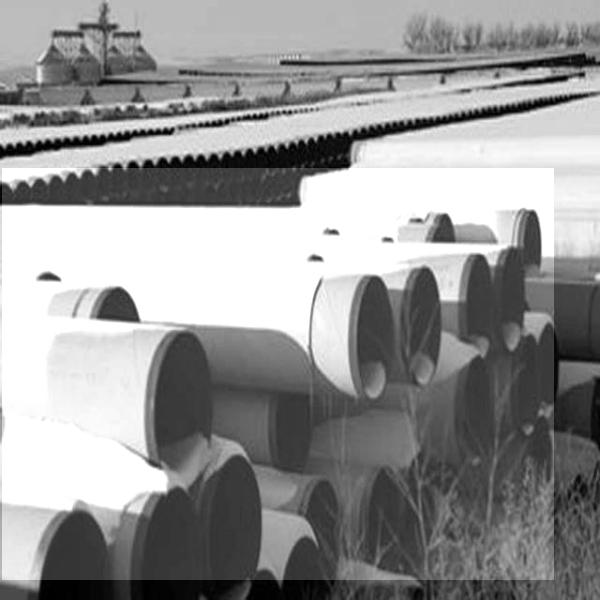no leak: (2, 168, 554, 580)
